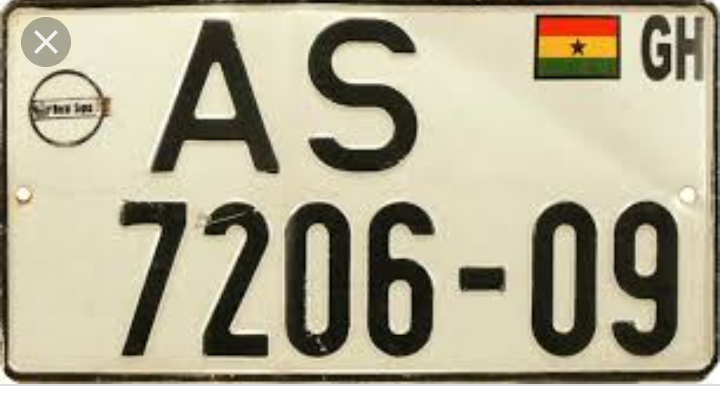number_plates: (9, 4, 717, 374)
